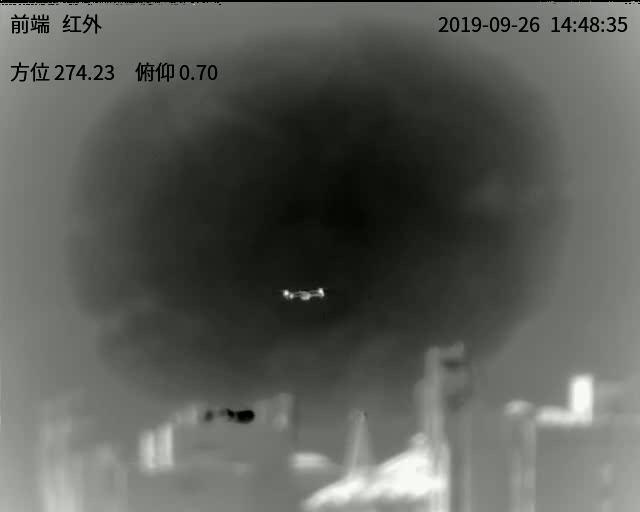DRONE: (280, 286, 325, 302)
